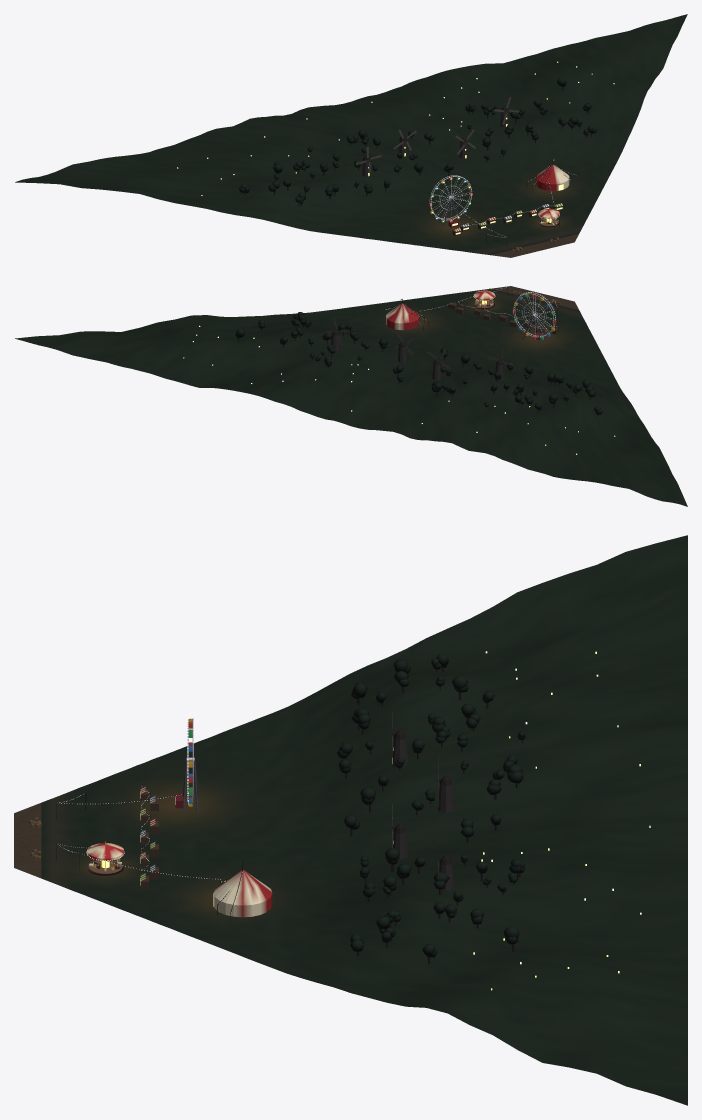
The model's file is backdrop_3.glb.
The picture shows the model from 3 angles, top to bottom: view 1: azimuth 30°, elevation 25°; view 2: azimuth 150°, elevation 25°; view 3: azimuth 270°, elevation 25°; orthographic projection. The views are drawn at different scales.
Visible parts, largest first — view 1: mid_field, far_trees, fg_ground, lm_bigtop, wheel, mid_stalls; view 2: mid_field, far_trees, lm_bigtop, wheel, fg_ground, mid_stalls; view 3: mid_field, far_trees, lm_bigtop, fg_ground, mid_stalls, carousel.
Boxes of the visible parts, x1,y1,x2,y2 form: mid_field: (15, 14, 687, 255); far_trees: (239, 77, 596, 206); fg_ground: (486, 218, 578, 257); lm_bigtop: (536, 159, 569, 190); wheel: (429, 175, 472, 220); mid_stalls: (452, 203, 563, 236); mid_field: (15, 288, 687, 506); far_trees: (235, 312, 602, 416); lm_bigtop: (386, 299, 419, 330); wheel: (513, 292, 555, 337); fg_ground: (491, 286, 578, 316); mid_stalls: (448, 301, 558, 334); mid_field: (41, 535, 687, 1105); far_trees: (337, 653, 525, 964); lm_bigtop: (213, 862, 272, 917); fg_ground: (14, 792, 86, 878); mid_stalls: (140, 786, 158, 888); carousel: (86, 841, 124, 873).
Size of the model in its own units: 418 by 28.28 by 206.
